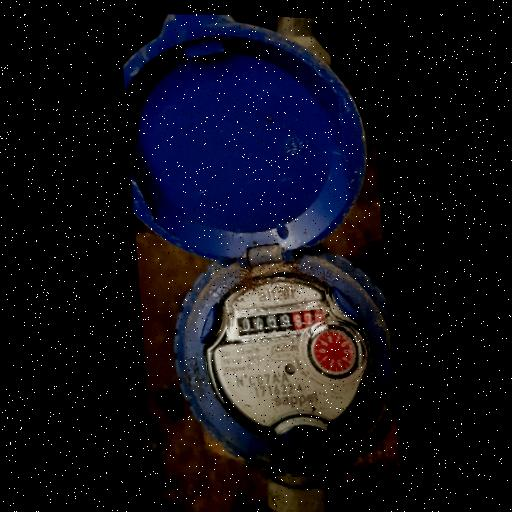0: (239, 316, 253, 337)
4: (253, 314, 267, 336)
5: (265, 313, 280, 334)
7: (304, 309, 318, 328), (315, 307, 326, 324)
9: (278, 311, 293, 332), (293, 309, 306, 331)
border_water_meter_number: (231, 298, 330, 346)
